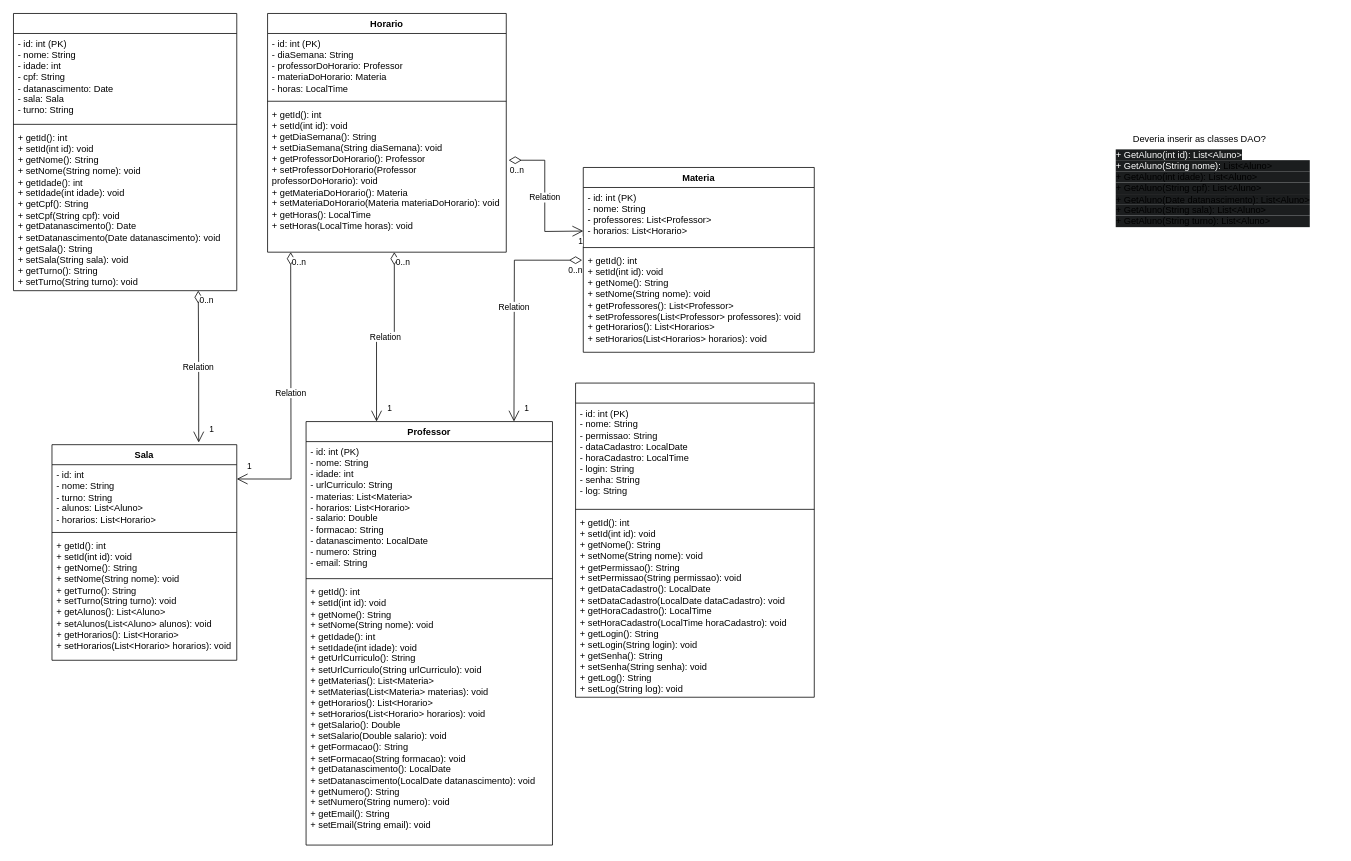
Image size: 1351x861. Some labels were removed from this diagram. Each missing label, with the box of its shape:
Aluno: (13, 13, 237, 291)
User: (575, 382, 814, 697)
